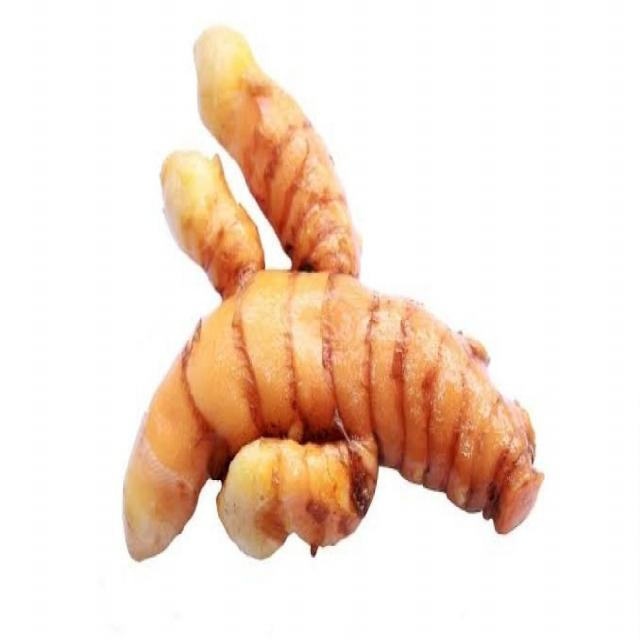ginger: (124, 32, 538, 558)
